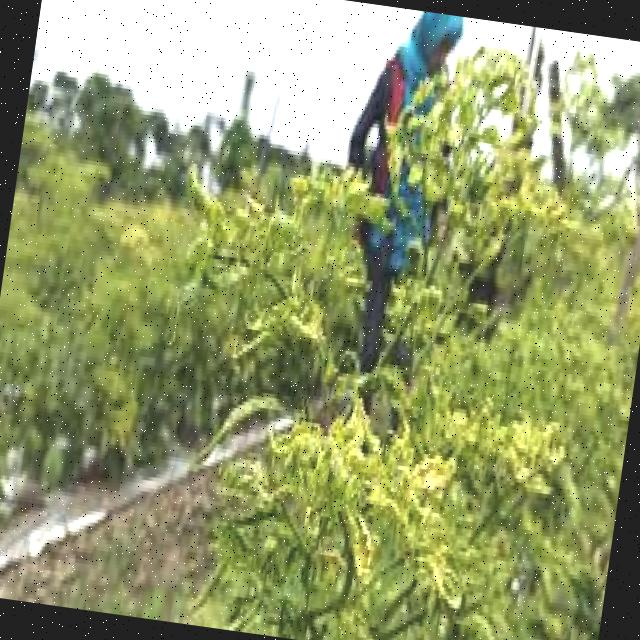yellow: (283, 61, 640, 640)
